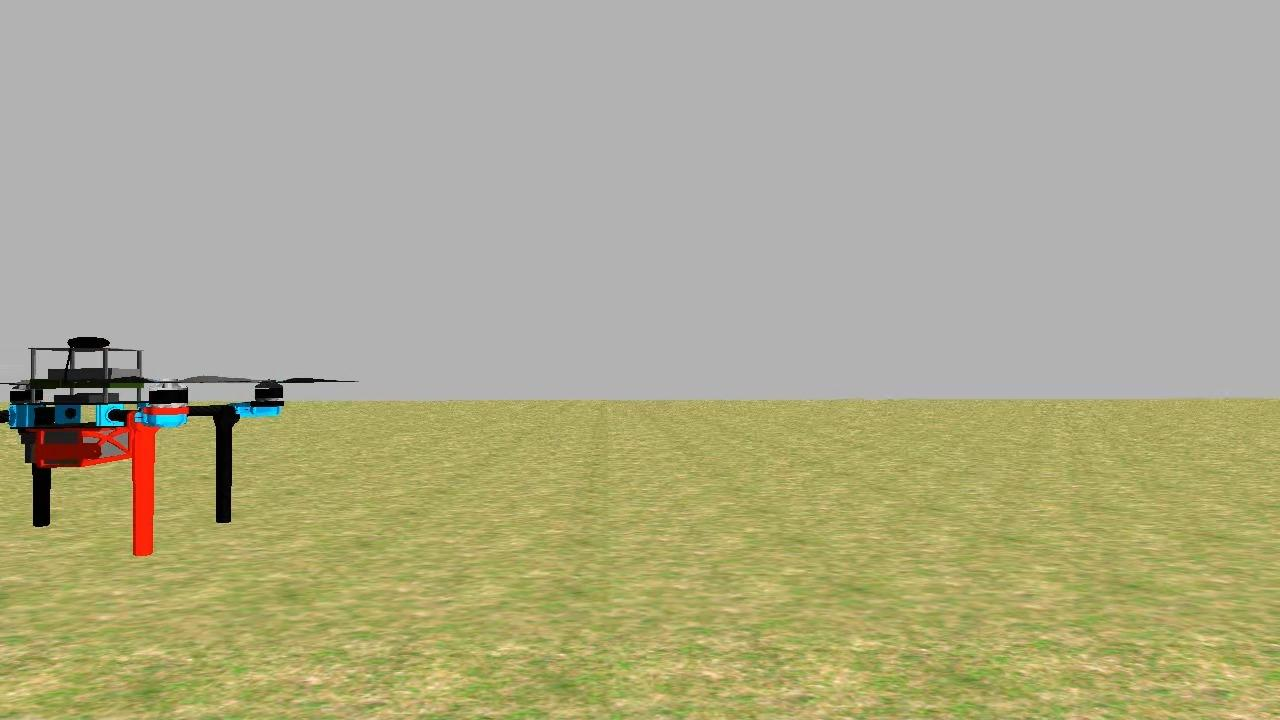UAV: (0, 297, 308, 552)
